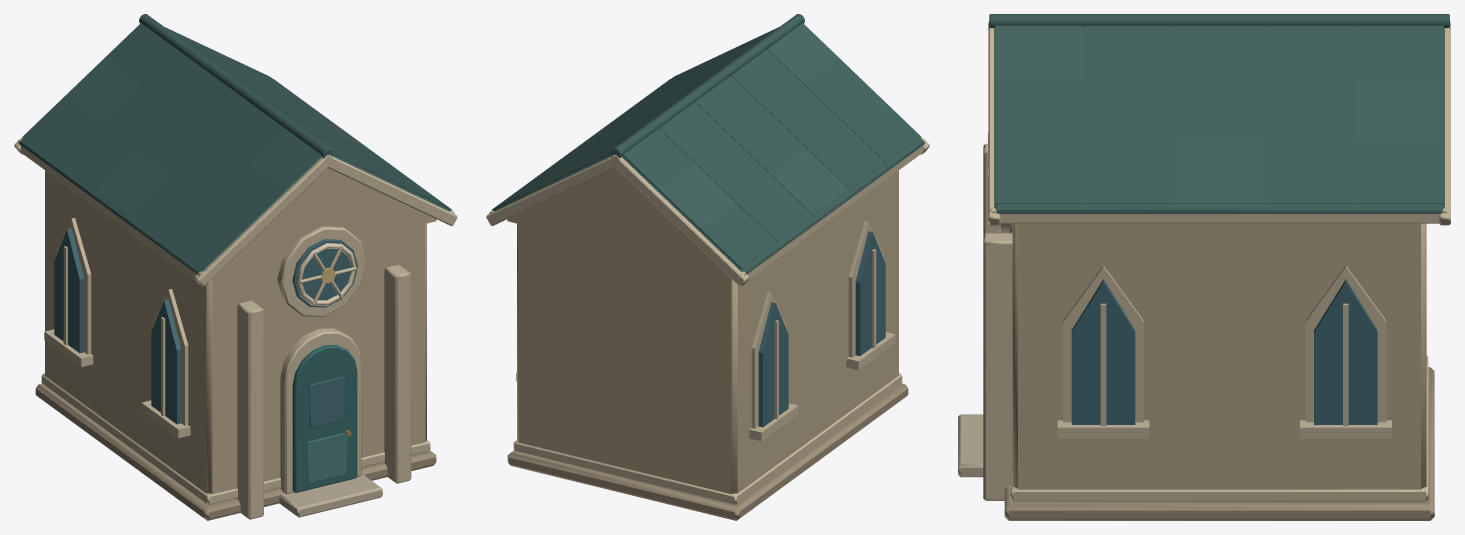
File: cathedral_level_1.glb
The picture shows the model from 3 angles, left to right: view 1: azimuth 30°, elevation 25°; view 2: azimuth 150°, elevation 25°; view 3: azimuth 270°, elevation 25°; orthographic projection. The views are drawn at different scales.
Visible parts, largest first — view 1: cathedral_level_1_runtime; view 2: cathedral_level_1_runtime; view 3: cathedral_level_1_runtime.
Part boxes in pixels (left/top/right/bottom): cathedral_level_1_runtime: left=14, top=14, right=457, bottom=520; cathedral_level_1_runtime: left=486, top=14, right=929, bottom=520; cathedral_level_1_runtime: left=958, top=14, right=1450, bottom=520.
Bounding box in the file's own units: 3.71 × 4.78 × 4.88.
